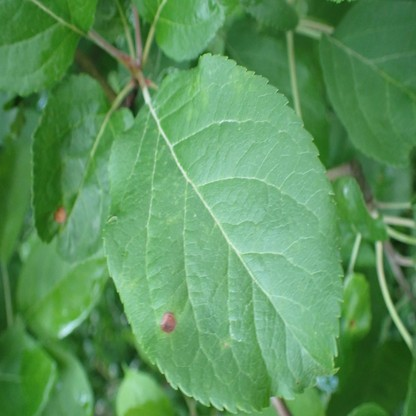frogeye_leaf_spot: (160, 311, 176, 332), (54, 207, 65, 224)
